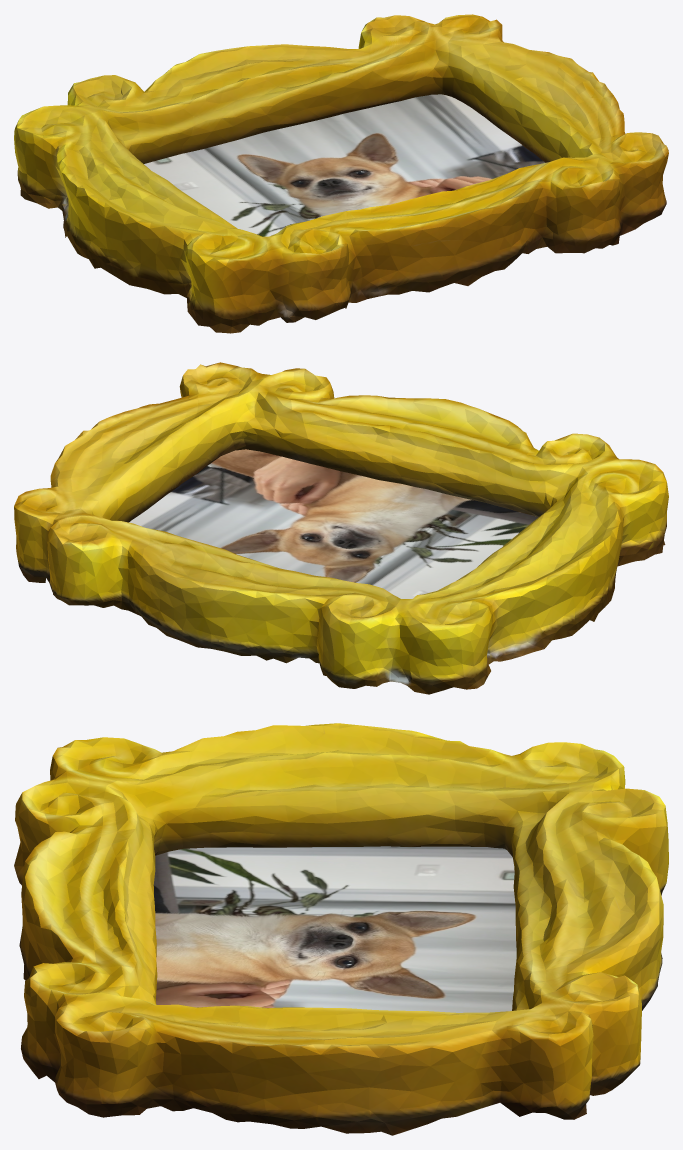
File: CadreChien.fbx
3 renders of one model, top to bottom at view 1: azimuth 30°, elevation 25°; view 2: azimuth 150°, elevation 25°; view 3: azimuth 270°, elevation 25°, orthographic. The views are drawn at different scales.
Visible parts, largest first — view 1: Cadre2, Photo2; view 2: Cadre2, Photo2; view 3: Cadre2, Photo2.
Part boxes in pixels (x1=…): Cadre2: x1=14, y1=14, x2=668, y2=333; Photo2: x1=144, y1=94, x2=544, y2=236; Cadre2: x1=14, y1=362, x2=668, y2=694; Photo2: x1=129, y1=449, x2=537, y2=598; Cadre2: x1=14, y1=723, x2=668, y2=1135; Photo2: x1=153, y1=846, x2=516, y2=1012.
Size of the model in its own units: 63.19 by 9.43 by 53.57.
Materials: 2 (2 with a texture image).
